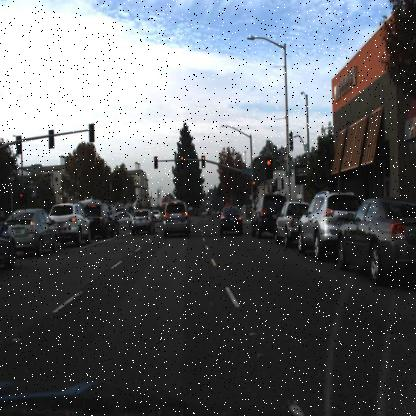car: (335, 195, 415, 279), (296, 185, 356, 257), (3, 203, 60, 261), (47, 200, 96, 251), (272, 197, 311, 247), (249, 191, 286, 237), (86, 201, 118, 239), (161, 197, 189, 239), (218, 201, 245, 239), (130, 205, 154, 236)
trafficLight-Red: (266, 156, 274, 181), (177, 152, 186, 171), (152, 154, 160, 172), (199, 152, 207, 170), (251, 176, 258, 195)
